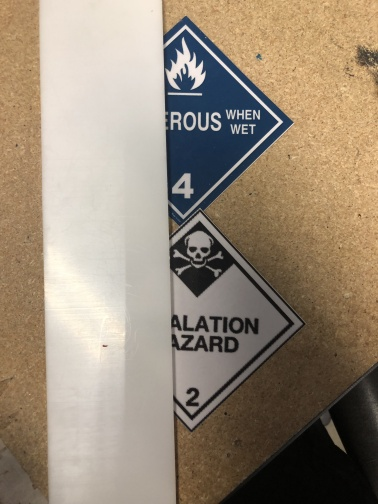DangerousWhenWet: (162, 17, 295, 226)
InhalationHazard: (167, 212, 305, 429)
